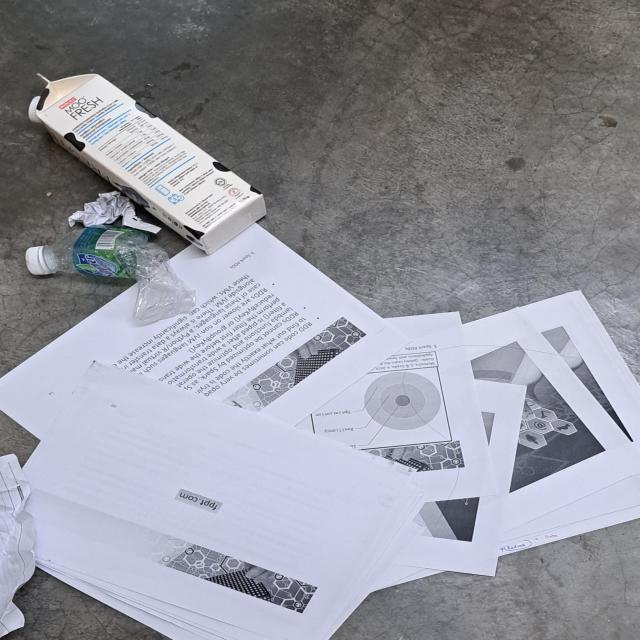drink carton: (36, 69, 268, 256)
paper: (0, 223, 640, 640), (0, 453, 37, 640), (68, 191, 162, 235)
plastic bottle: (44, 226, 197, 324)
plastic bottle cap: (26, 246, 56, 276), (28, 95, 42, 123)
